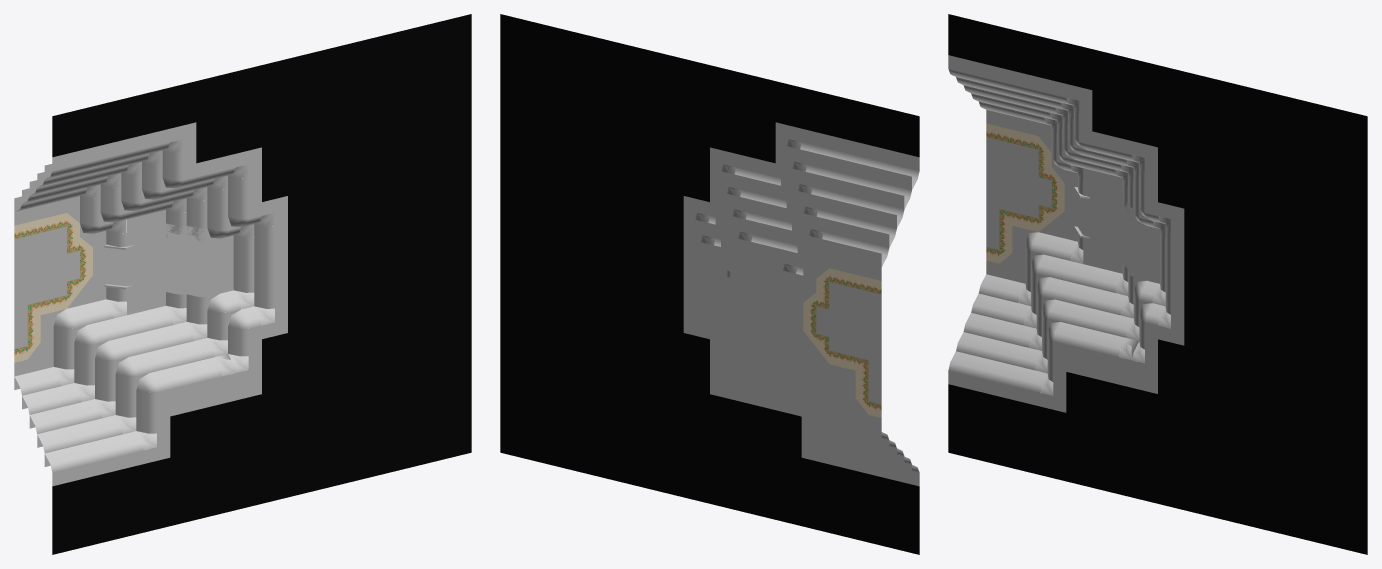
File: Sandstone-Cave_03_01.obj
3 renders of one model, left to right at view 1: azimuth 30°, elevation 25°; view 2: azimuth 150°, elevation 25°; view 3: azimuth 330°, elevation 25°, orthographic.
Visible parts, largest first — view 1: map; view 2: map; view 3: map.
Part boxes in pixels (x1,y1,x2,y2): map: (14,14,471,554); map: (500,14,919,554); map: (948,14,1367,554).
Bounding box in the file's own units: 32 × 32 × 5.01.
